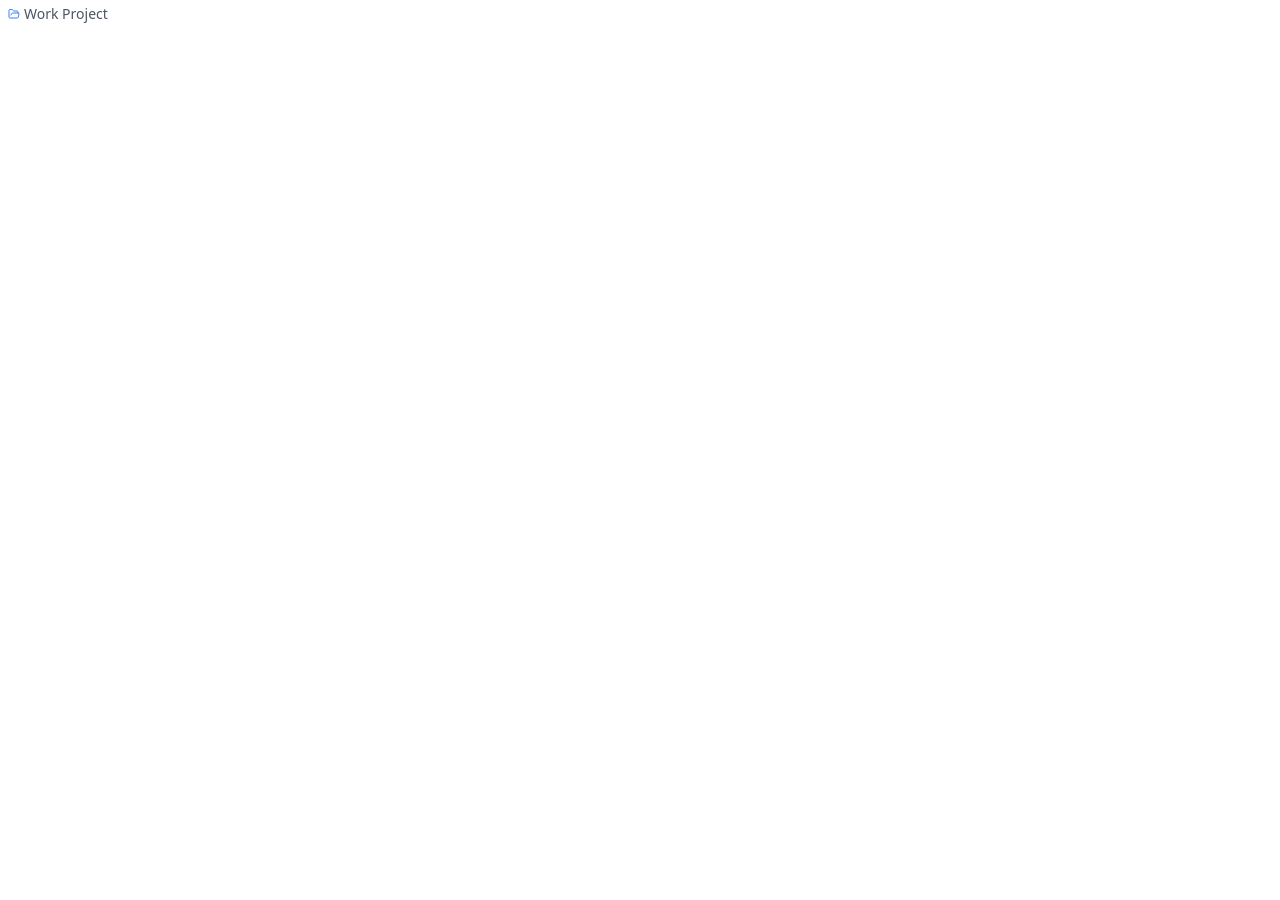
Test: ProjectPicker › closes popover after removing project
Click the text "Work Project" at (58, 14), box [8, 4, 108, 23]
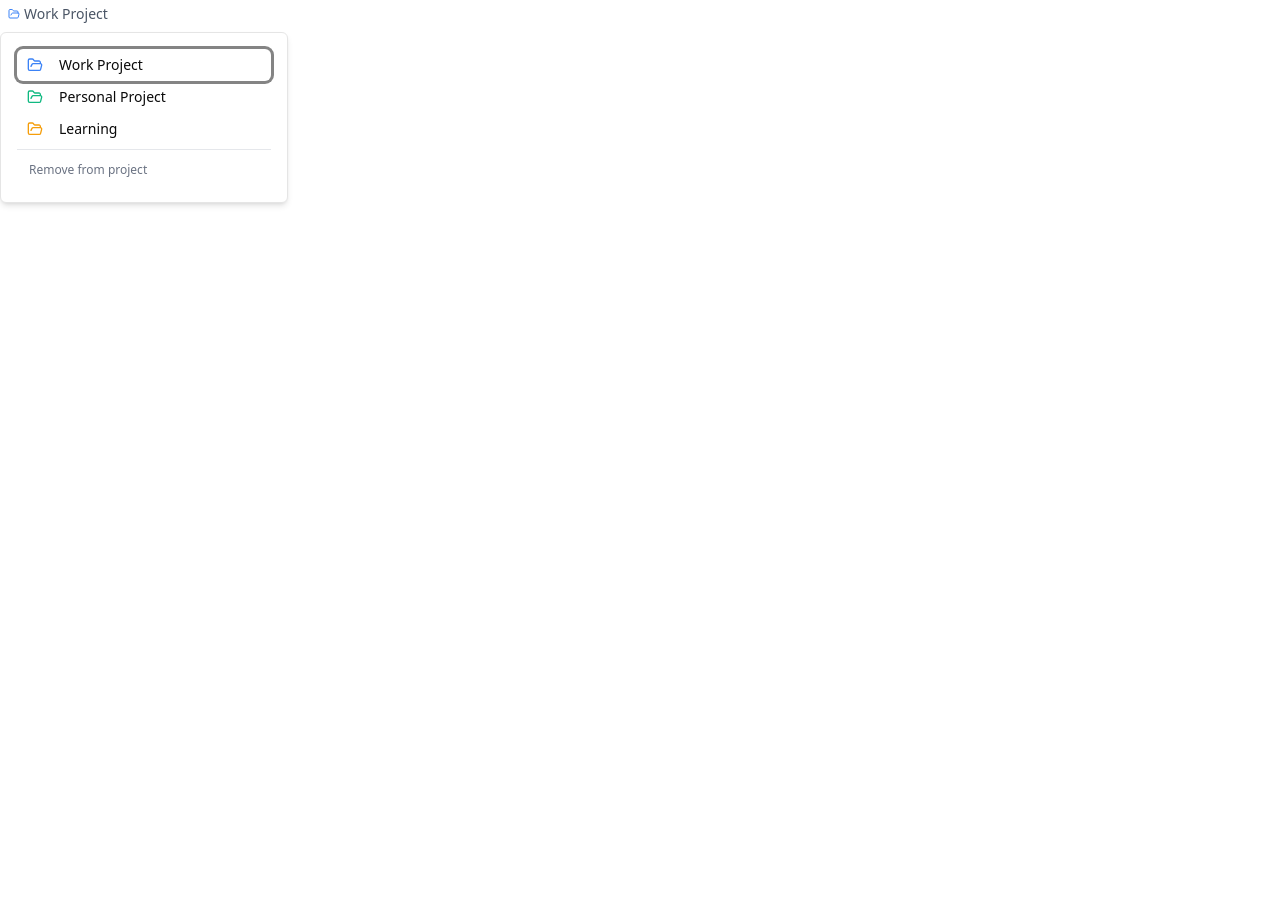
Result: the button "Remove from project" is shown
Click the button "Remove from project" at (144, 170), box [17, 154, 271, 186]
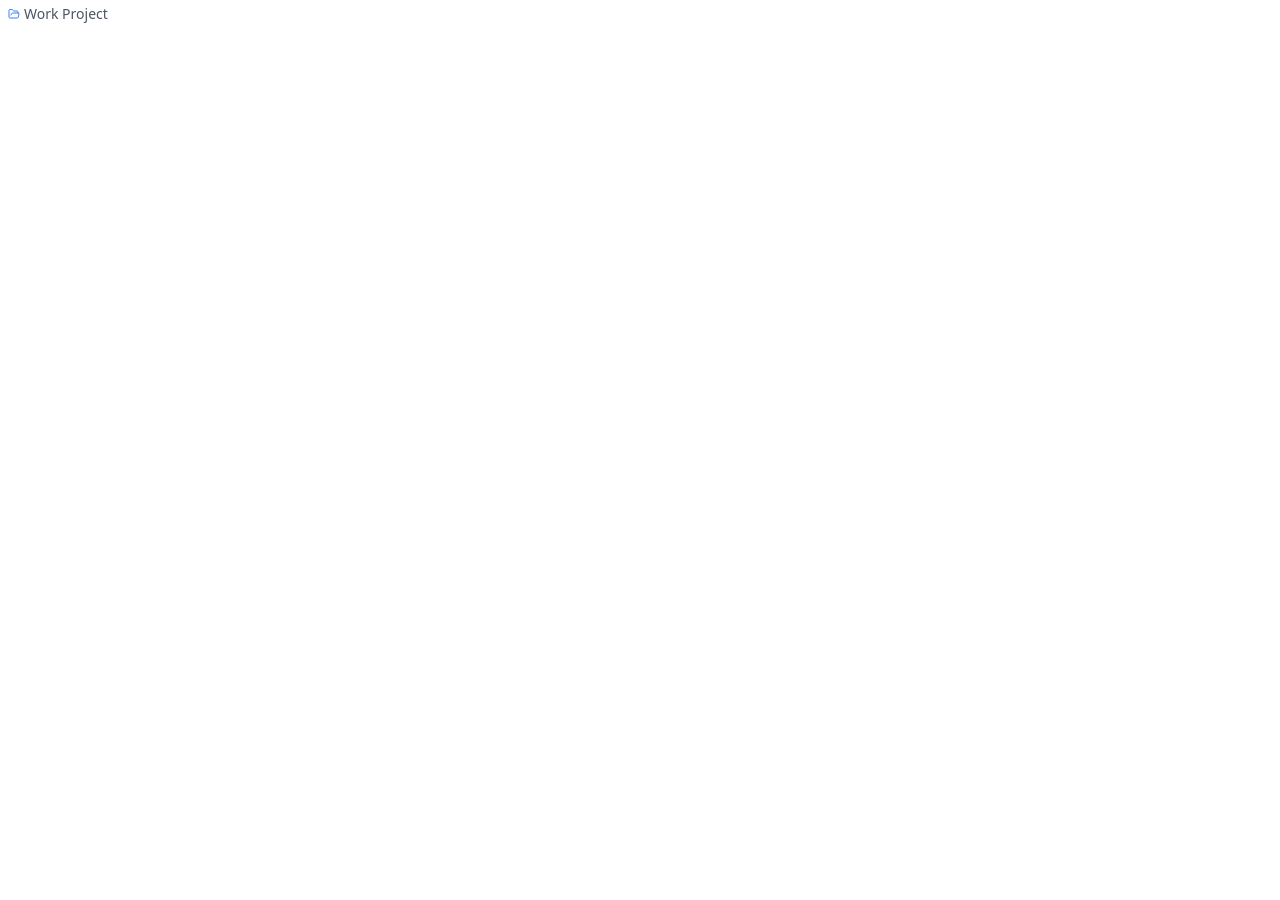
Result: the button "Remove from project" is gone
